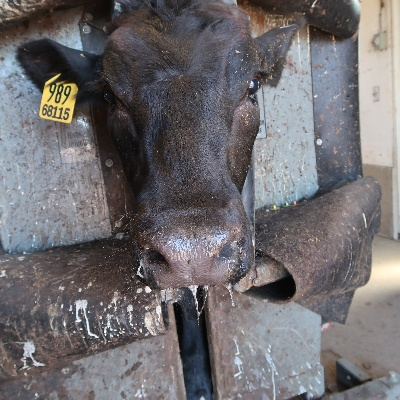fidget_spinner: (126, 217, 248, 294)
